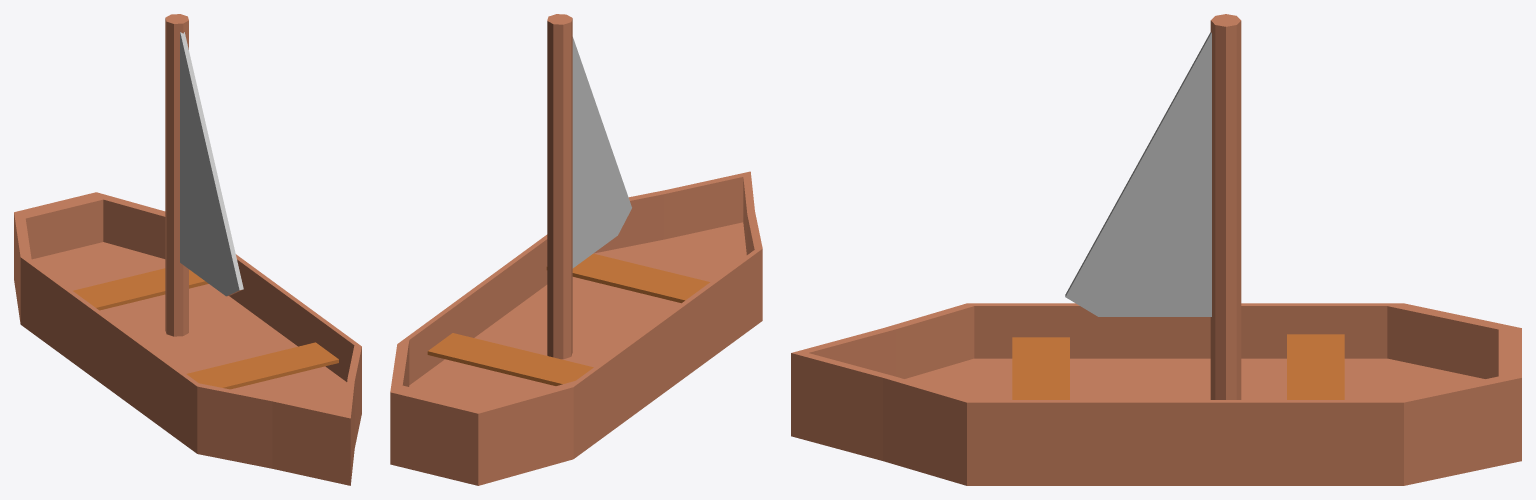
Rendered from oldShip.fbx.
3 views of the same model, side by side, from view 1: azimuth 30°, elevation 25°; view 2: azimuth 150°, elevation 25°; view 3: azimuth 270°, elevation 25° (orthographic). The views are drawn at different scales.
Parts seen in each view (by area): view 1: boat; view 2: boat; view 3: boat.
Part boxes in pixels (left/top/right/bottom): boat: left=14, top=14, right=361, bottom=485; boat: left=390, top=14, right=762, bottom=485; boat: left=791, top=14, right=1521, bottom=485.
Bounding box in the file's own units: 4 × 7.84 × 12.44.
